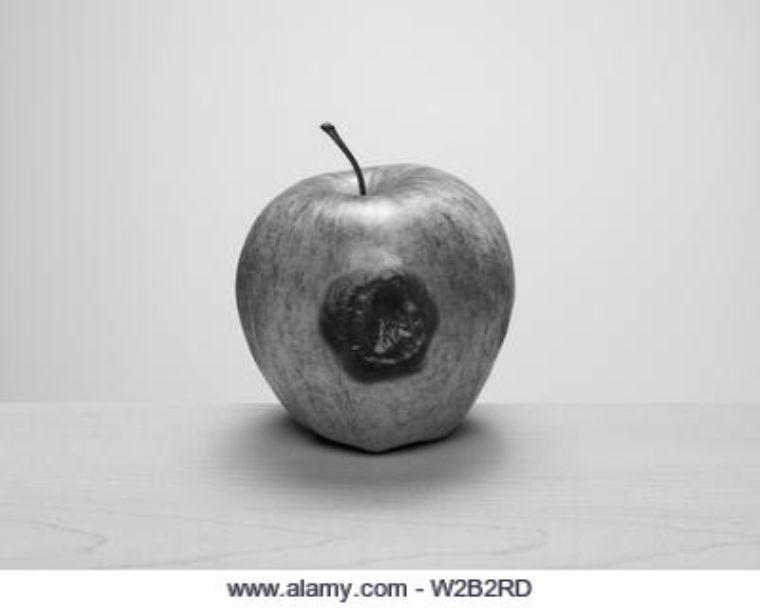ROT: (228, 139, 555, 478)
